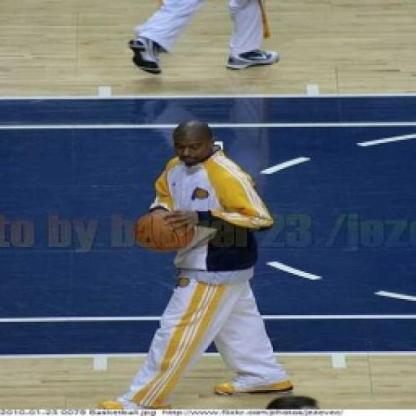basketball: (134, 209, 197, 256)
